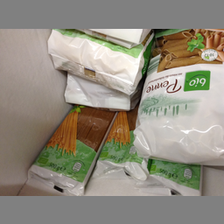pasta: (134, 29, 224, 169), (25, 103, 116, 192)
